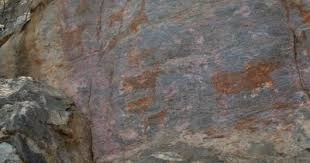obstacle: (0, 1, 309, 161)
